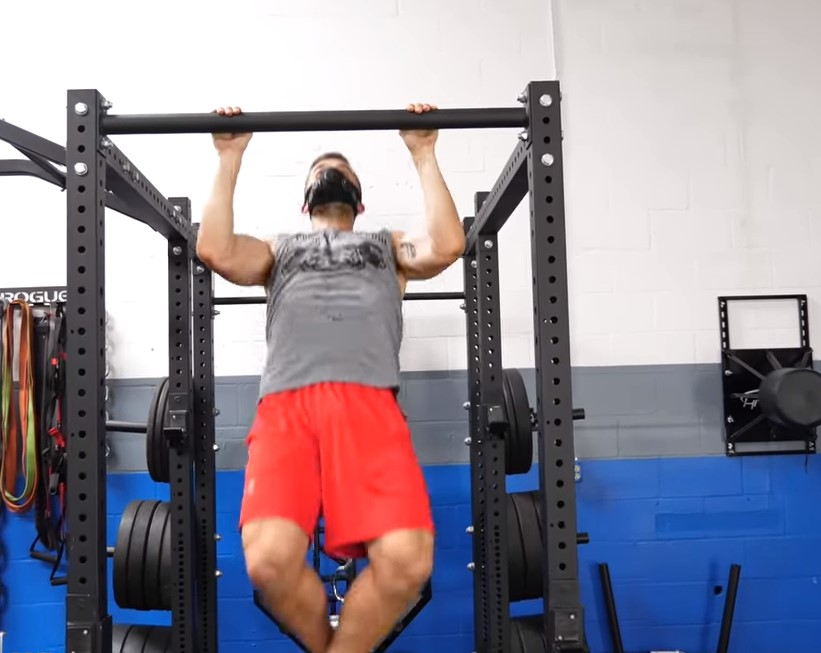face_with_mask: (298, 148, 373, 218)
